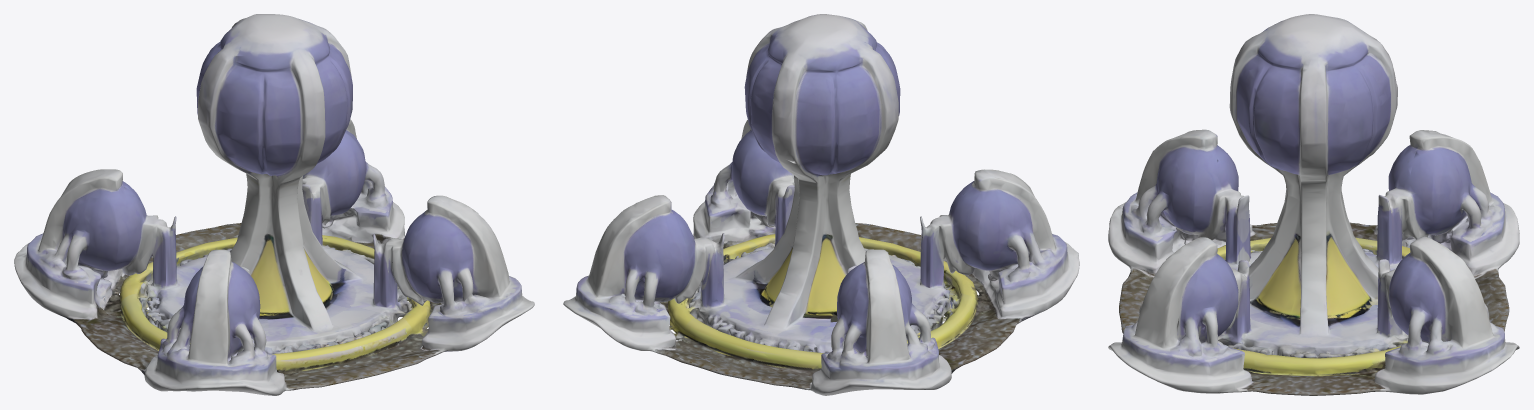
The model's file is WeatherControlDevice.fbx.
3 views of the same model, side by side, from view 1: azimuth 30°, elevation 25°; view 2: azimuth 150°, elevation 25°; view 3: azimuth 270°, elevation 25° (orthographic).
Parts seen in each view (by area): view 1: texture_pbr_v128.001; view 2: texture_pbr_v128.001; view 3: texture_pbr_v128.001.
Part boxes in pixels (x1,y1,x2,y2): texture_pbr_v128.001: [14, 14, 534, 395]; texture_pbr_v128.001: [563, 14, 1079, 395]; texture_pbr_v128.001: [1108, 14, 1519, 395].
Size of the model in its own units: 85.48 by 64.64 by 82.79.
1 material, 1 textured.
